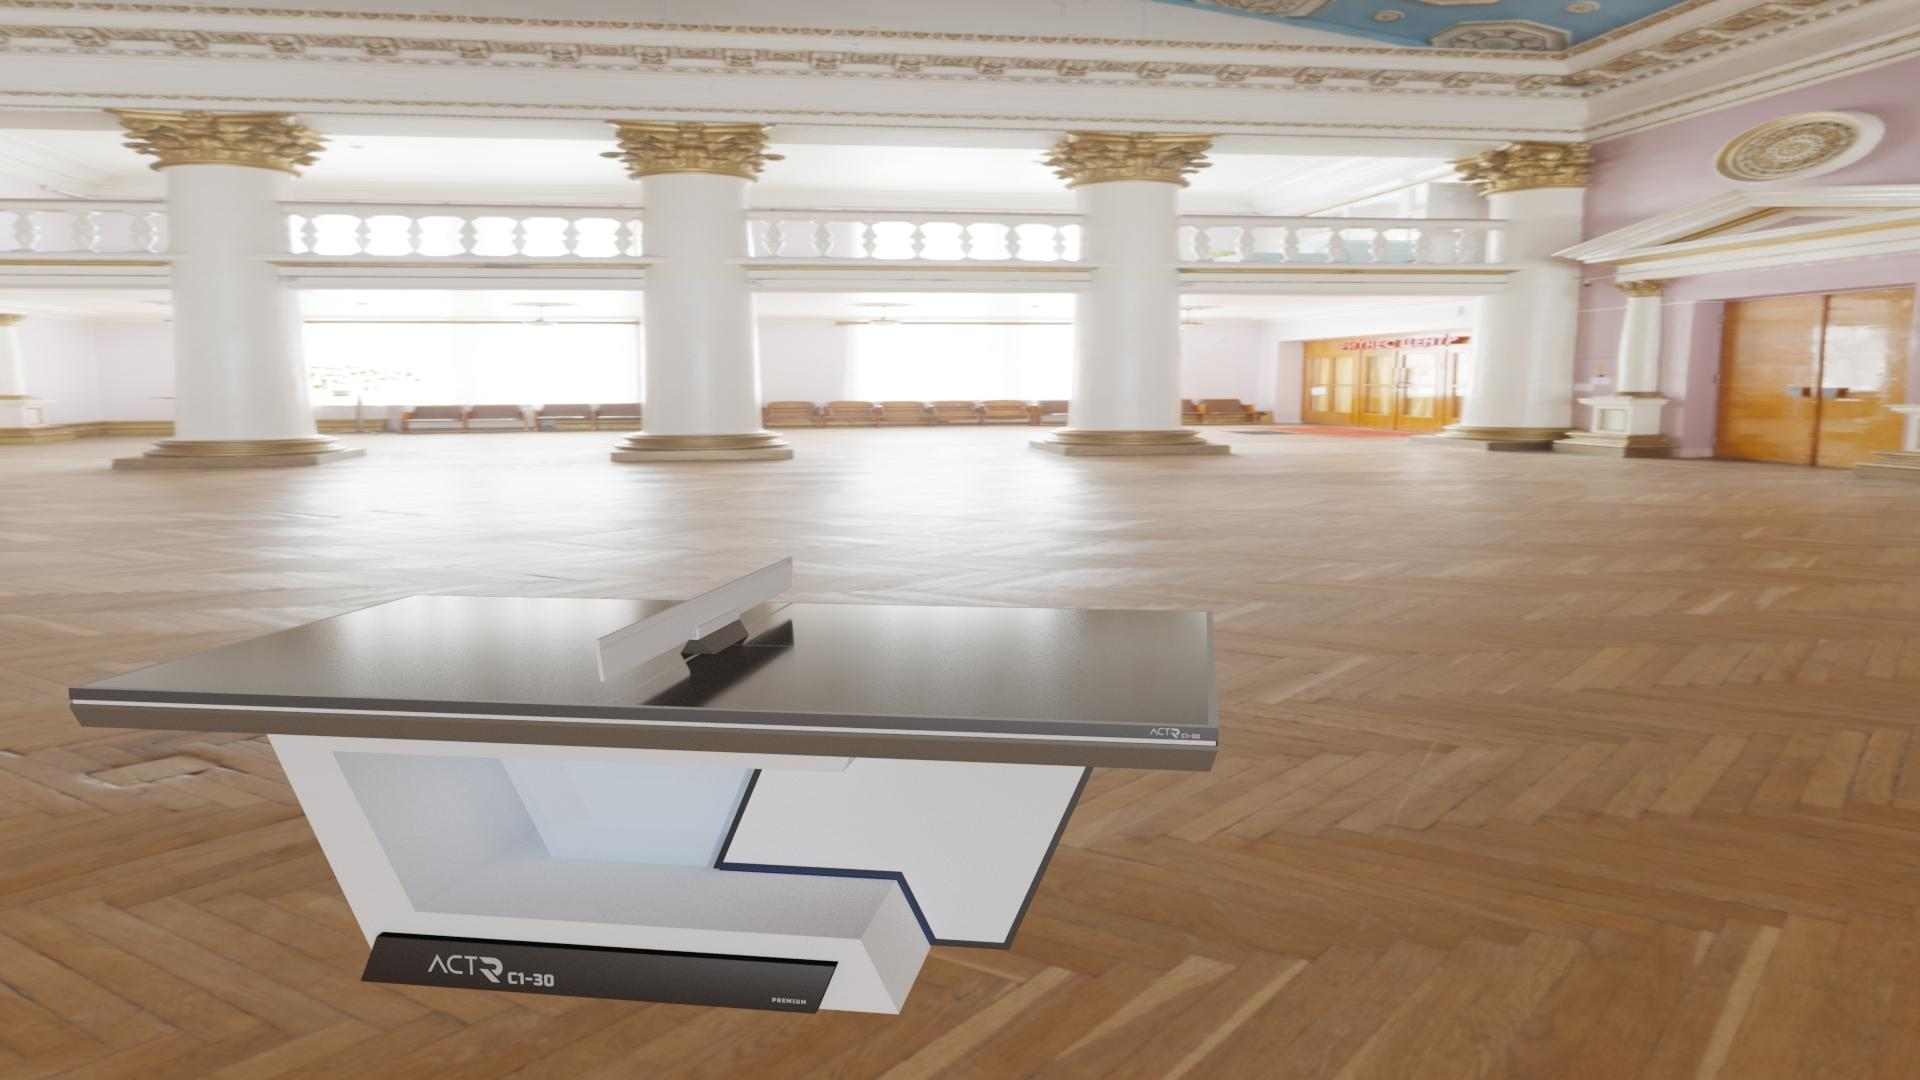table: (82, 595, 1209, 725)
